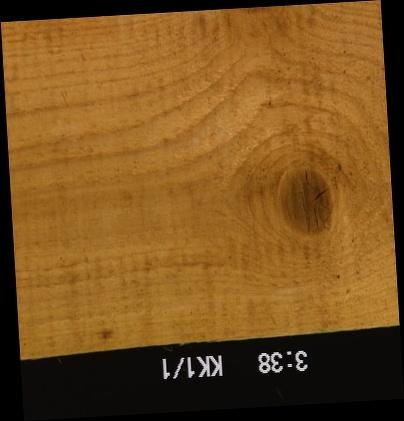sound_knot: (277, 166, 335, 237)
